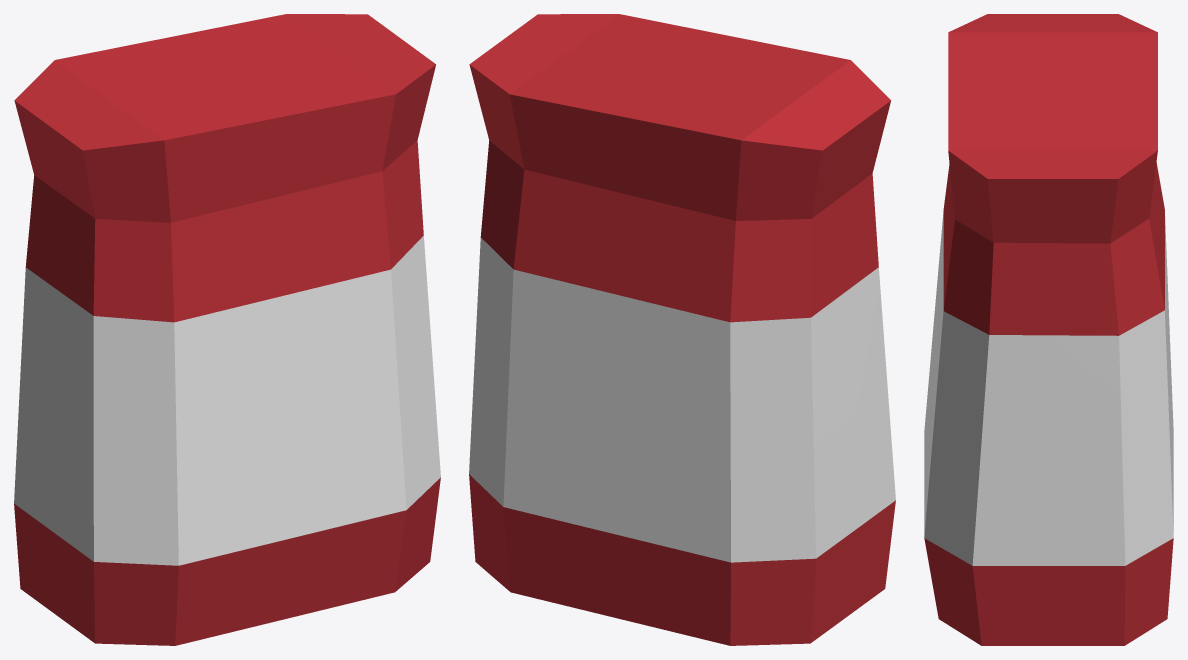
File: flour-pack.glb
The picture shows the model from 3 angles, left to right: view 1: azimuth 30°, elevation 25°; view 2: azimuth 150°, elevation 25°; view 3: azimuth 270°, elevation 25°; orthographic projection. The views are drawn at different scales.
Visible parts, largest first — view 1: flour-pack; view 2: flour-pack; view 3: flour-pack.
Boxes of the visible parts, x1,y1,x2,y2 form: flour-pack: [14, 14, 440, 645]; flour-pack: [469, 14, 895, 645]; flour-pack: [924, 14, 1173, 645].
Size of the model in its own units: 0.18 by 0.2451 by 0.1151.
1 material, 1 textured.
